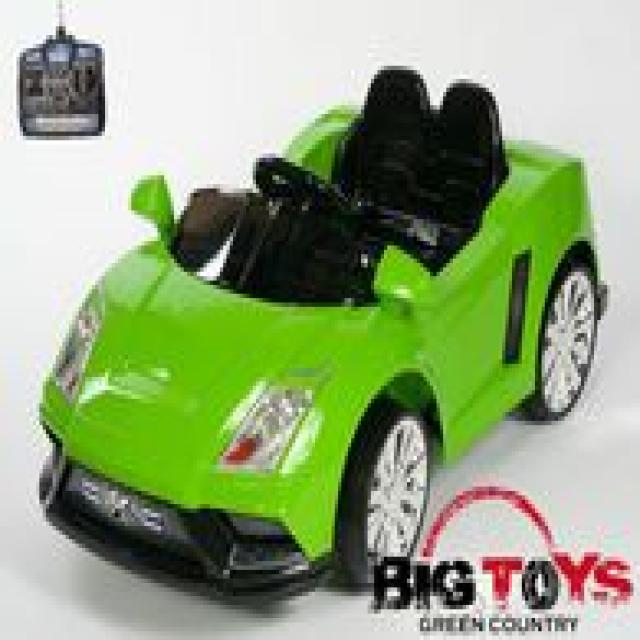Car: (36, 83, 607, 601)
